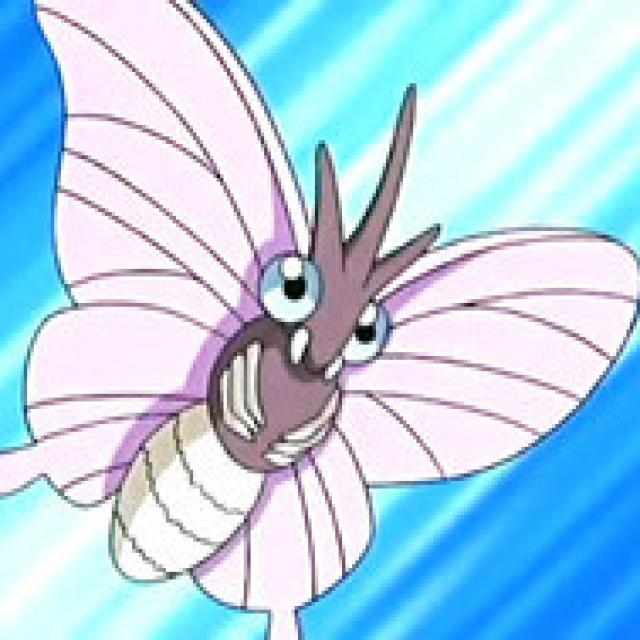Venomoth: (25, 97, 503, 619)
